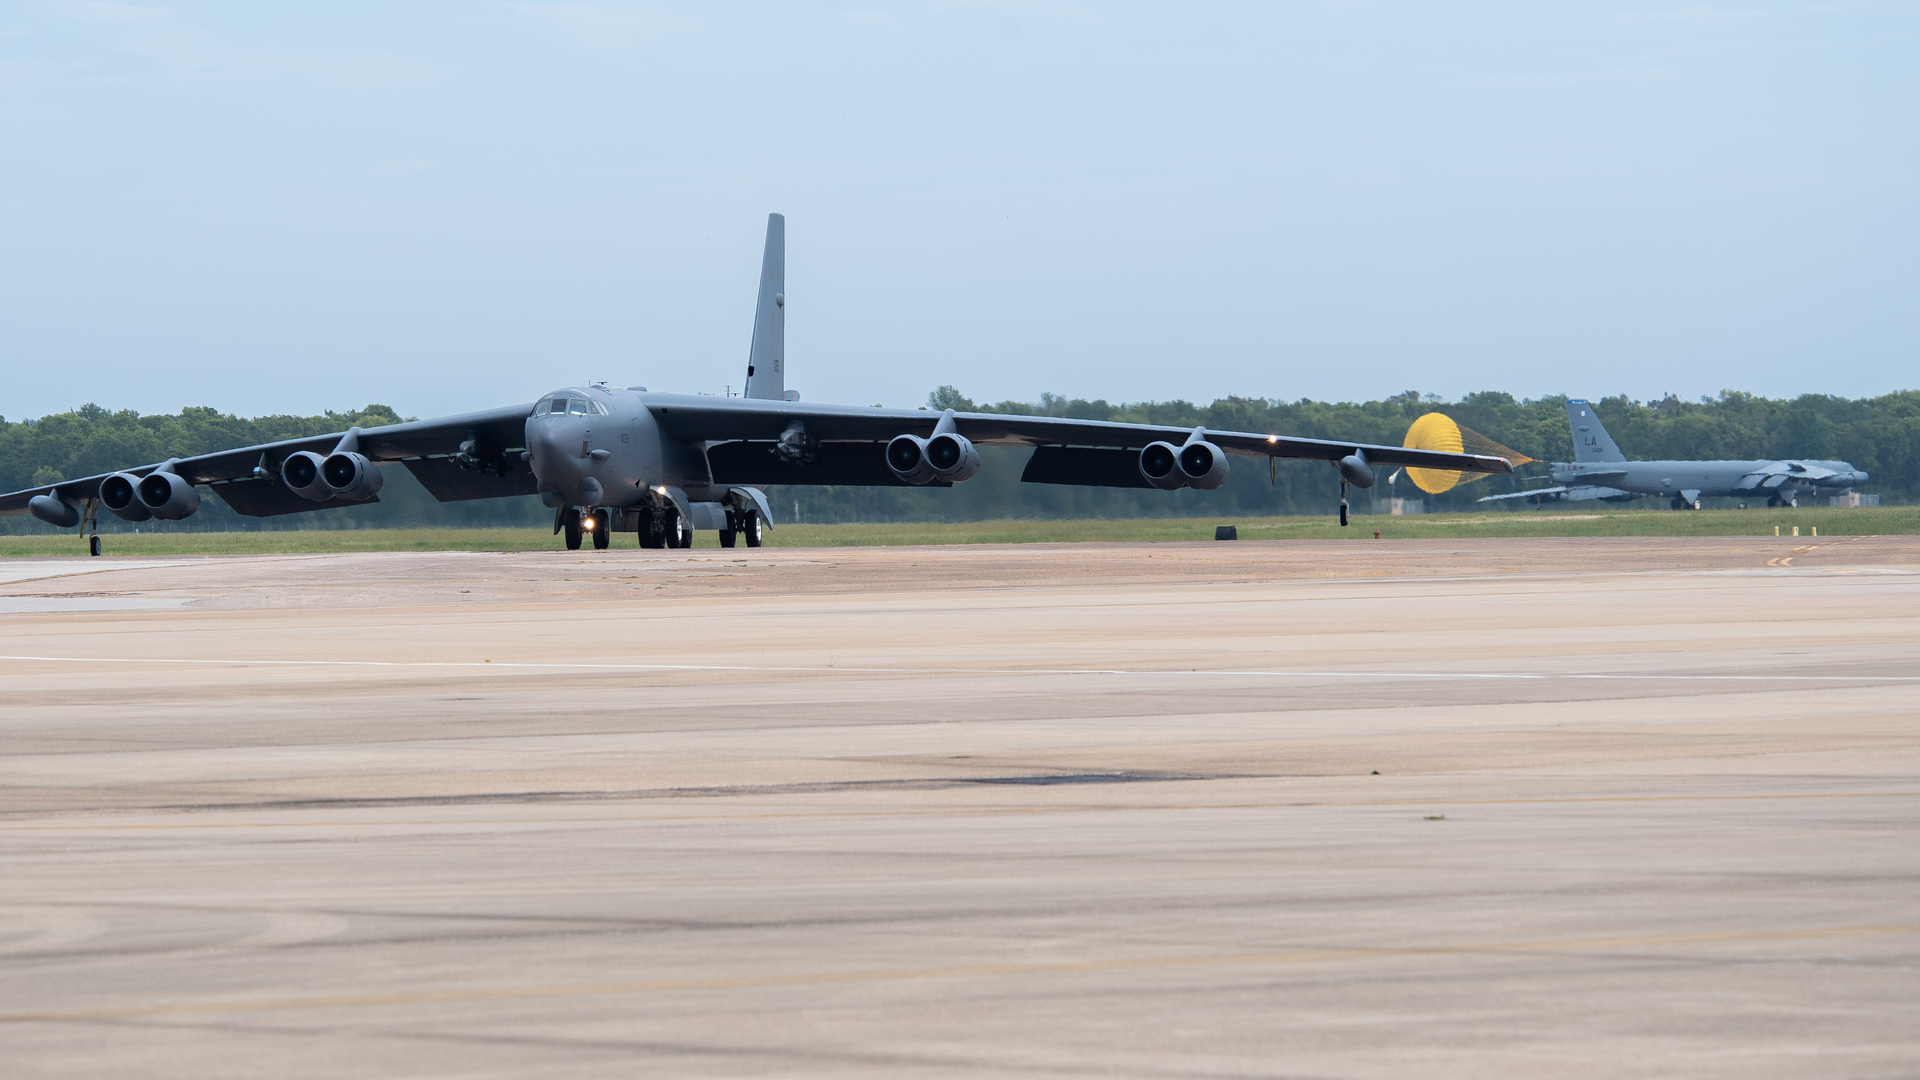B52: (1, 211, 1515, 556), (1476, 398, 1870, 512)
